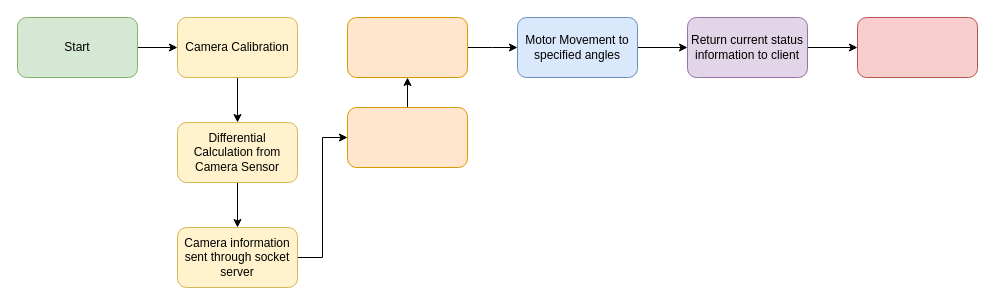
Some shapes in this 995 by 305 pixel diagram are drawn without their labels. The centre of each missing label's shape, as x and y in pixels:
Calculation of angles from distance on server: point 407,47
End: point 917,47
Server information recieved from client: point 407,137
